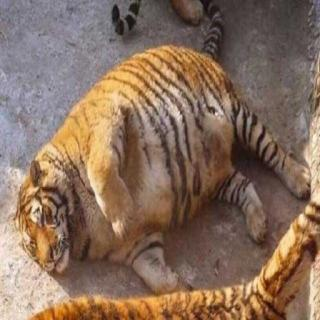Tiger: (0, 24, 297, 274), (56, 188, 320, 320)
